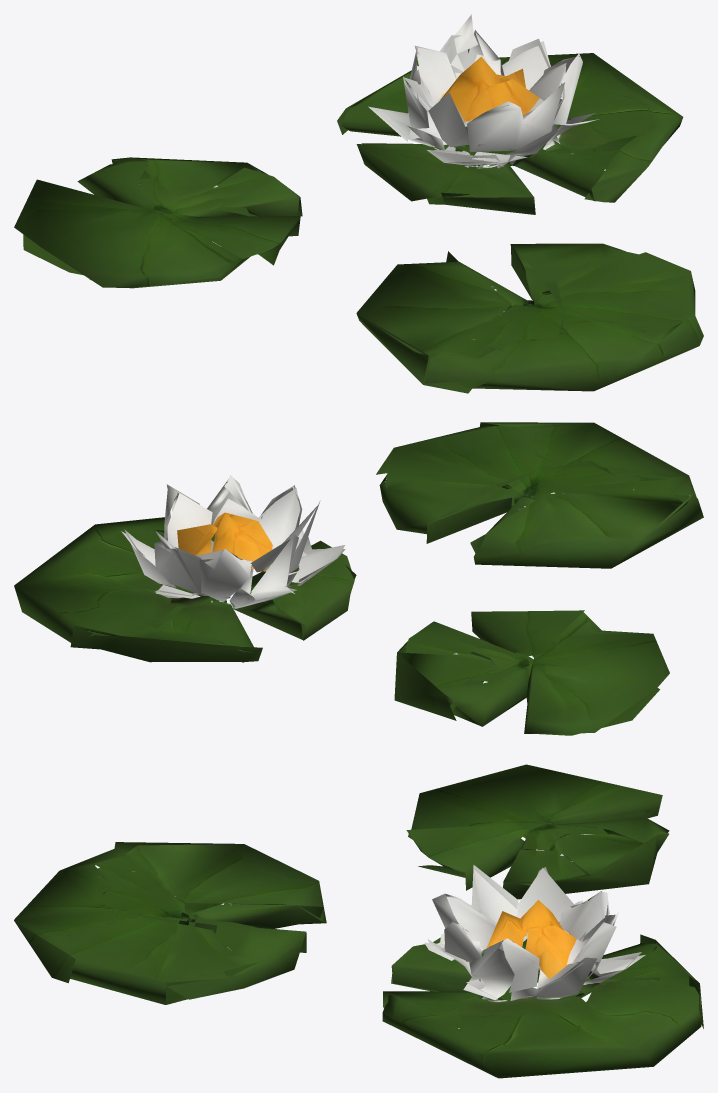
3 views of the same model, one above another, from view 1: azimuth 30°, elevation 25°; view 2: azimuth 150°, elevation 25°; view 3: azimuth 270°, elevation 25° (orthographic). The views are drawn at different scales.
Visible parts, largest first — view 1: quad; view 2: quad; view 3: quad.
Boxes of the visible parts, left/top/right/bottom form: quad: left=14, top=14, right=703, bottom=393; quad: left=14, top=422, right=703, bottom=735; quad: left=14, top=764, right=703, bottom=1078.
Bounding box in the file's own units: 140 × 25.2 × 139.
1 material, 1 textured.
